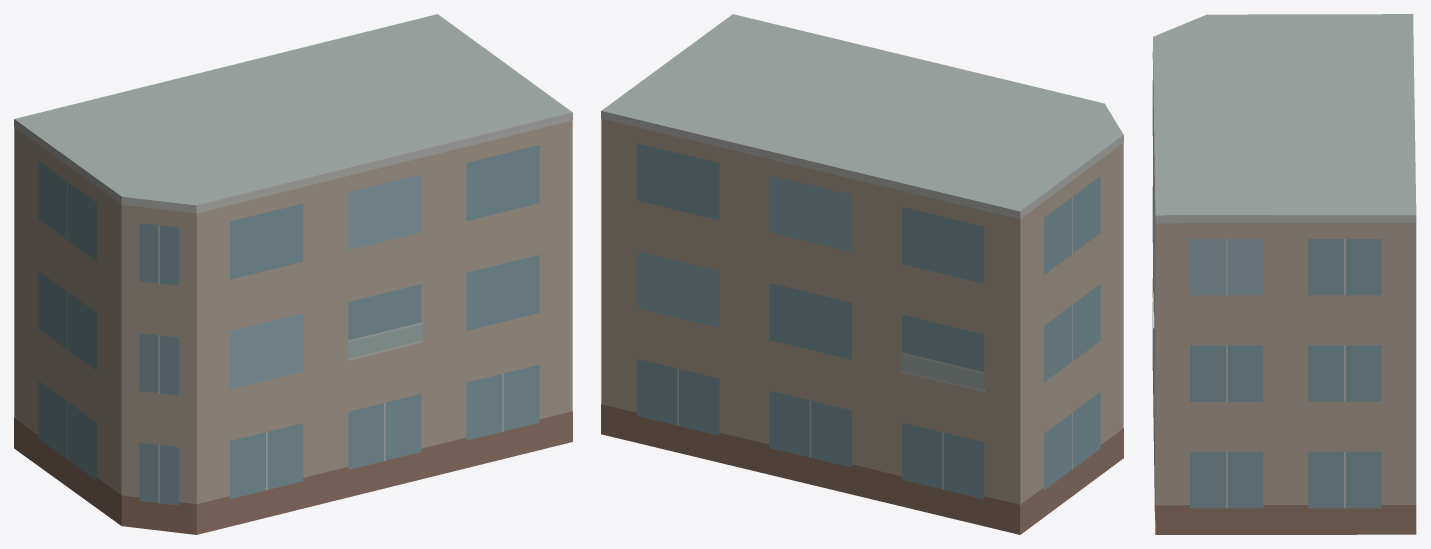
The model's file is survey-upis-32902427.glb.
3 views of the same model, side by side, from view 1: azimuth 30°, elevation 25°; view 2: azimuth 150°, elevation 25°; view 3: azimuth 270°, elevation 25° (orthographic). The views are drawn at different scales.
Parts seen in each view (by area): view 1: survey-upis-32902427.tmp; view 2: survey-upis-32902427.tmp; view 3: survey-upis-32902427.tmp.
Part boxes in pixels (x1,y1,x2,y2): survey-upis-32902427.tmp: (14, 14, 572, 534); survey-upis-32902427.tmp: (601, 14, 1123, 534); survey-upis-32902427.tmp: (1152, 14, 1416, 534).
Size of the model in its own units: 13.67 by 10.1 by 7.57.
